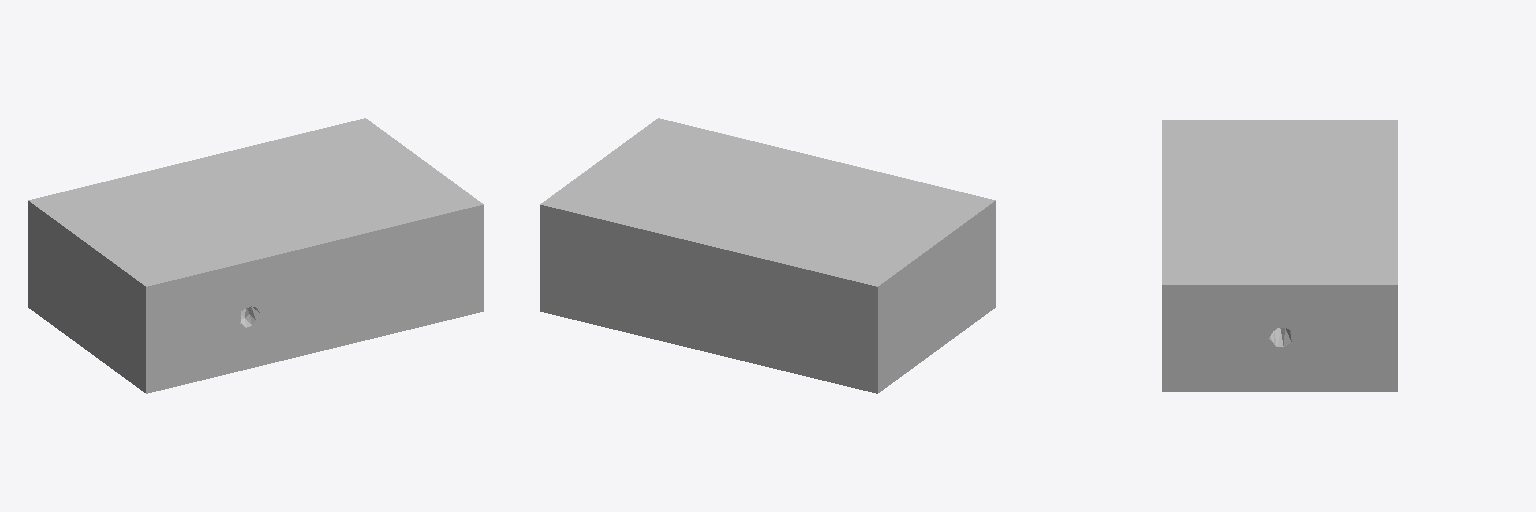
Rendered from tunnel_block_2_big.obj.
3 views of the same model, side by side, from view 1: azimuth 30°, elevation 25°; view 2: azimuth 150°, elevation 25°; view 3: azimuth 270°, elevation 25° (orthographic).
Visible parts, largest first — view 1: Box005; view 2: Box005; view 3: Box005.
Part boxes in pixels (left/top/right/bottom): Box005: left=28, top=118, right=483, bottom=393; Box005: left=540, top=118, right=995, bottom=393; Box005: left=1162, top=120, right=1397, bottom=391.
Bounding box in the file's own units: 330 × 100 × 200.